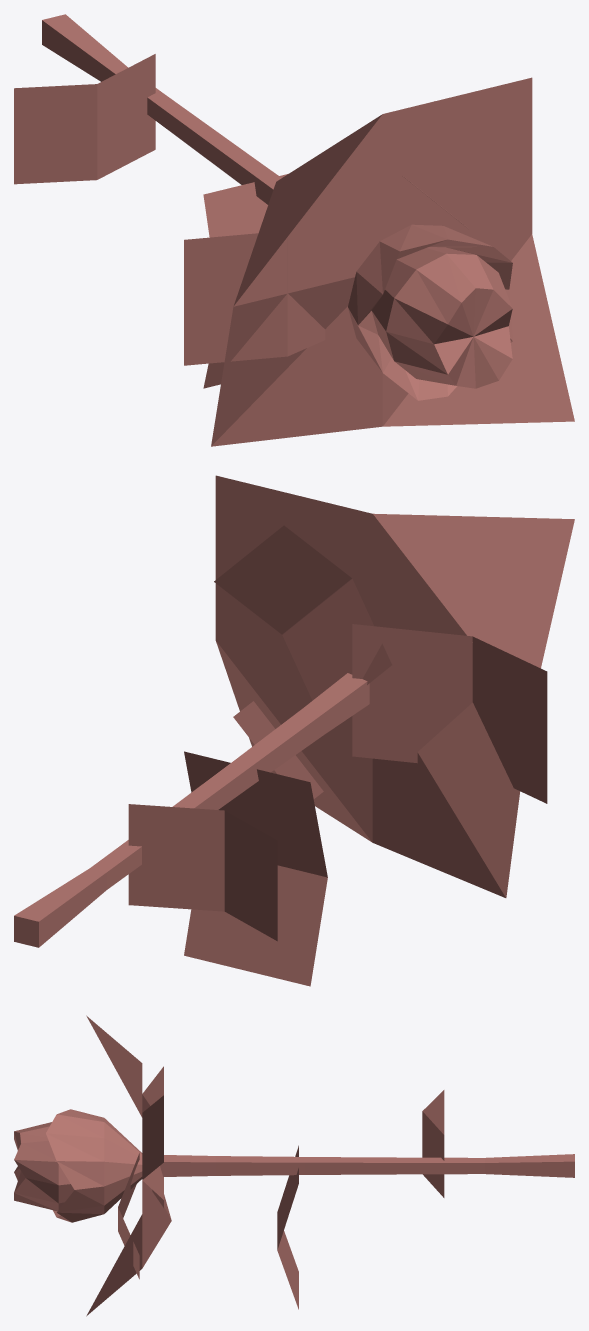
Rendered from result.gltf.
3 renders of one model, top to bottom at view 1: azimuth 30°, elevation 25°; view 2: azimuth 150°, elevation 25°; view 3: azimuth 270°, elevation 25°, orthographic. The views are drawn at different scales.
Visible parts, largest first — view 1: skpE5DE1; view 2: skpE5DE1; view 3: skpE5DE1.
Boxes of the visible parts, x1,y1,x2,y2 form: skpE5DE1: (14,14,574,446); skpE5DE1: (14,475,574,986); skpE5DE1: (14,1015,574,1316).
Size of the model in its own units: 6.45 by 6.45 by 14.37.
